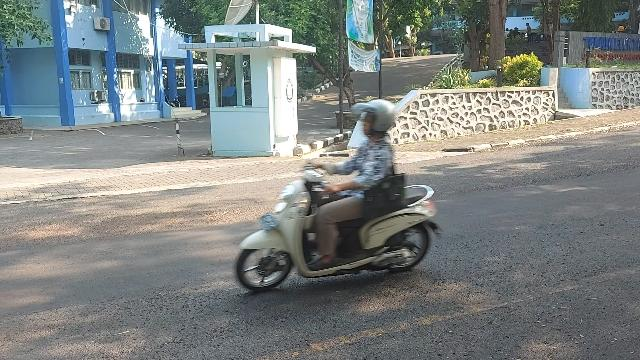helm: (351, 101, 395, 136)
motor: (236, 166, 443, 295)
